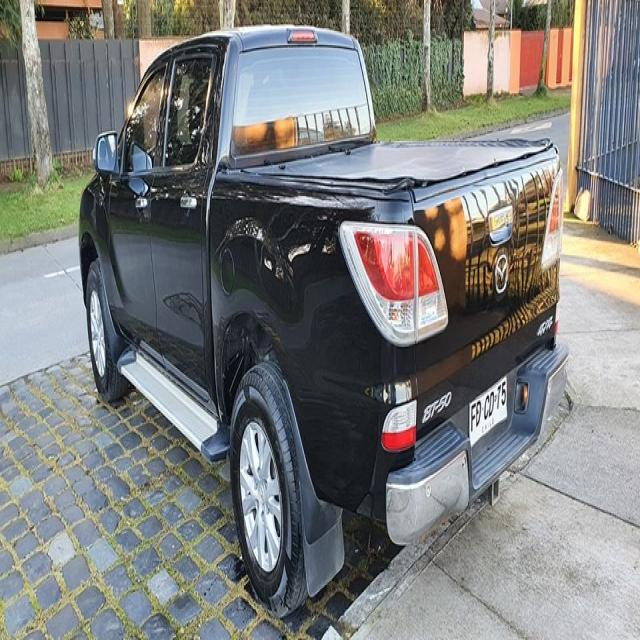patente: (467, 374, 508, 448)
